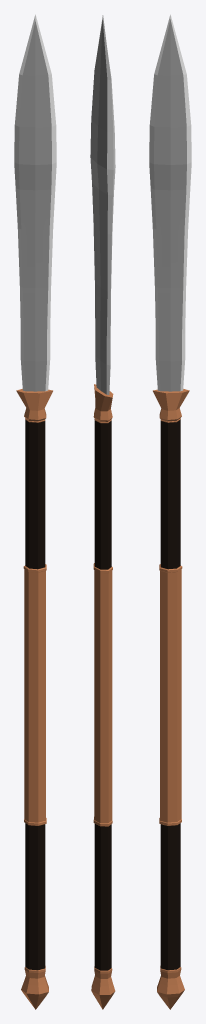
The model's file is Spear2.glb.
3 renders of one model, left to right at view 1: azimuth 90°, elevation 25°; view 2: azimuth 210°, elevation 25°; view 3: azimuth 270°, elevation 25°, orthographic.
Visible parts, largest first — view 1: Cube.013; view 2: Cube.013; view 3: Cube.013.
Boxes of the visible parts, bbox=[...] form: Cube.013: bbox=[14, 14, 56, 1009]; Cube.013: bbox=[90, 15, 115, 1009]; Cube.013: bbox=[149, 14, 191, 1009].
Bounding box in the file's own units: 512 × 24678 × 958.
